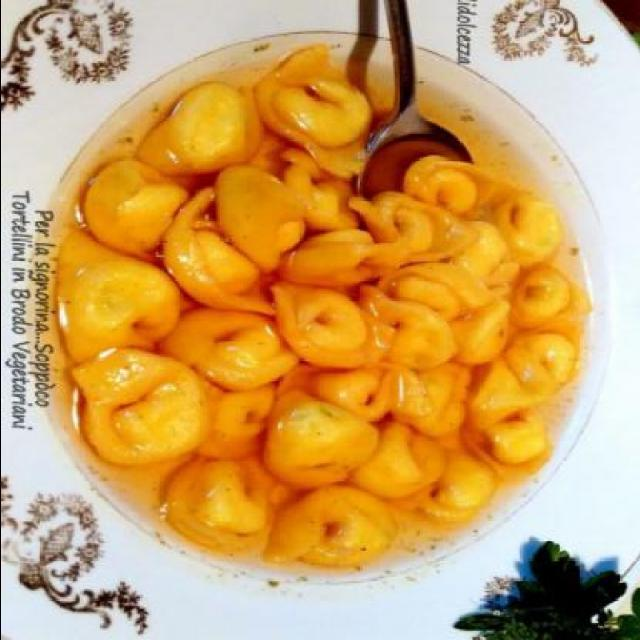Tortellini in broth: (87, 82, 584, 596)
